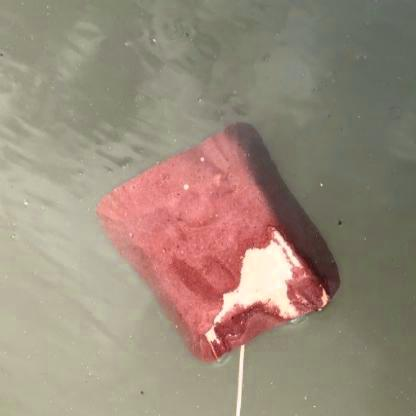Trash: (87, 120, 346, 369)
